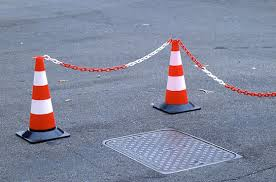cones: (20, 56, 70, 143), (156, 39, 199, 113)
